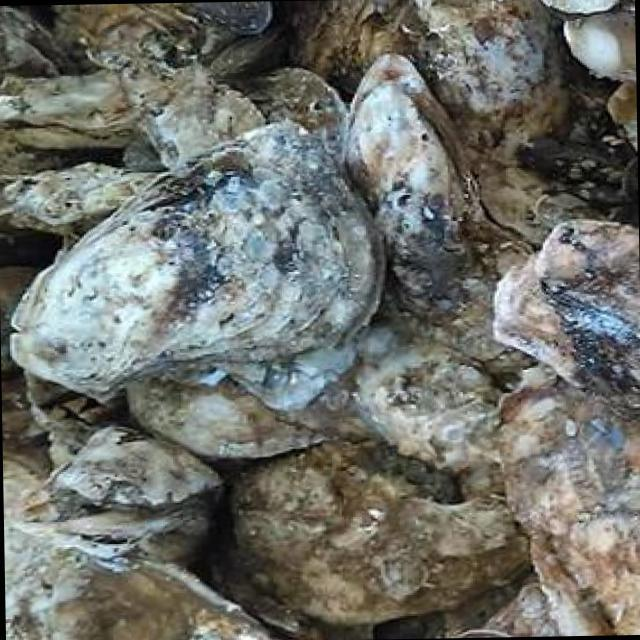Oyster- Indeterminate: (10, 119, 388, 413), (359, 0, 638, 246), (345, 53, 532, 361), (231, 446, 529, 623), (493, 371, 640, 636), (125, 322, 397, 458), (493, 221, 640, 414), (14, 425, 222, 555), (354, 344, 506, 473), (2, 448, 77, 640), (214, 68, 346, 167)
